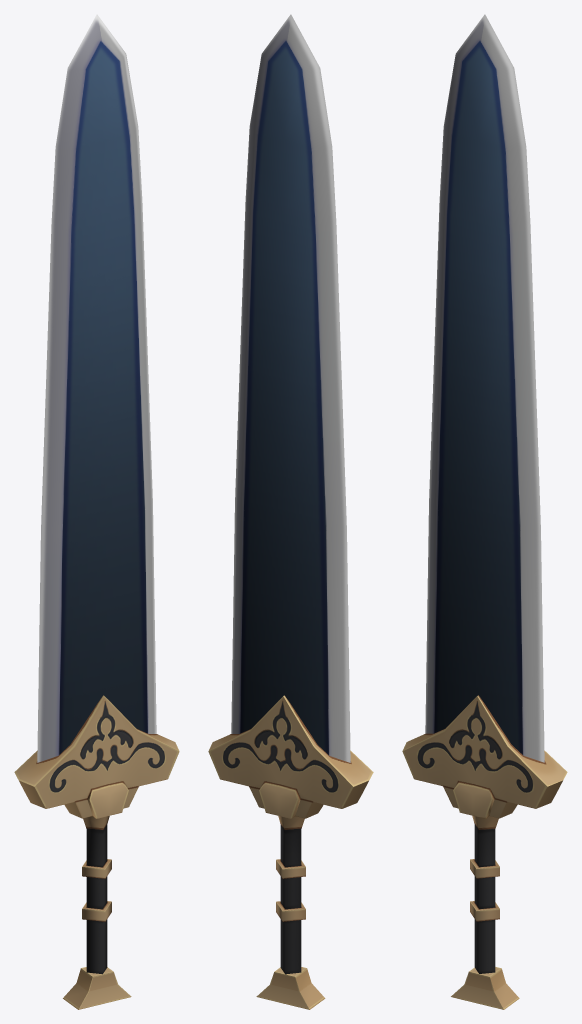
The model's file is wp_sword_class_t1.fbx.
3 renders of one model, left to right at view 1: azimuth 30°, elevation 25°; view 2: azimuth 150°, elevation 25°; view 3: azimuth 330°, elevation 25°, orthographic.
Visible parts, largest first — view 1: wp_sword_class_t1; view 2: wp_sword_class_t1; view 3: wp_sword_class_t1.
Part boxes in pixels (bbox=[...]): wp_sword_class_t1: bbox=[14, 14, 179, 1009]; wp_sword_class_t1: bbox=[208, 14, 373, 1009]; wp_sword_class_t1: bbox=[402, 14, 567, 1009].
Bounding box in the file's own units: 32.61 × 196 × 8.86.
